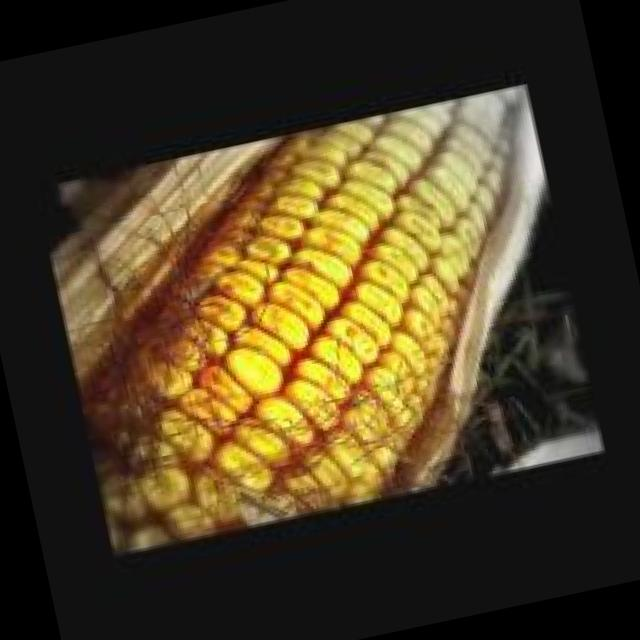corn: (78, 87, 540, 556)
